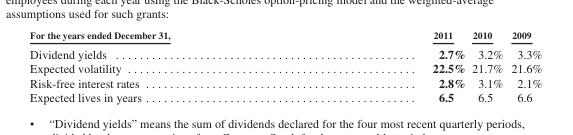table: (29, 29, 541, 103)
table column: (29, 29, 300, 103), (300, 29, 468, 103), (468, 29, 506, 103), (506, 29, 541, 103)
table column header: (29, 29, 541, 43)
table row: (29, 43, 541, 60), (29, 60, 541, 75), (29, 29, 541, 43), (29, 75, 541, 89), (29, 89, 541, 103)
